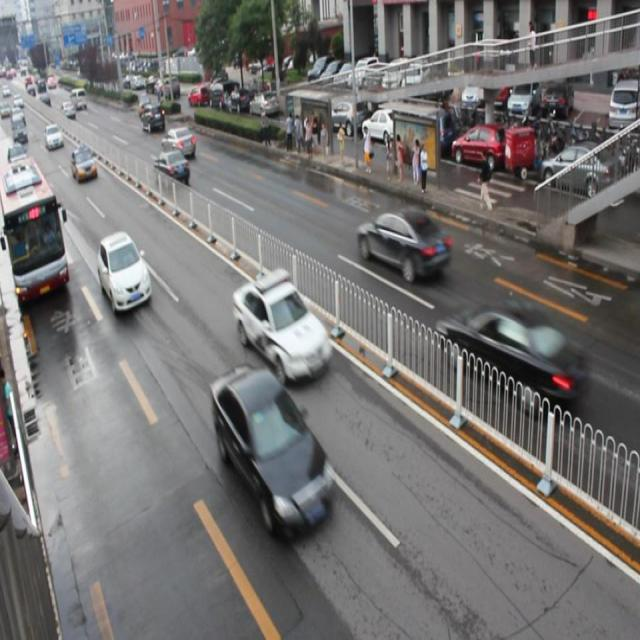car: (209, 368, 335, 534), (435, 300, 589, 409), (232, 271, 332, 384), (356, 207, 451, 284), (98, 229, 150, 315), (154, 150, 189, 185), (161, 127, 195, 161), (71, 142, 97, 182)
van: (1, 158, 69, 300)
